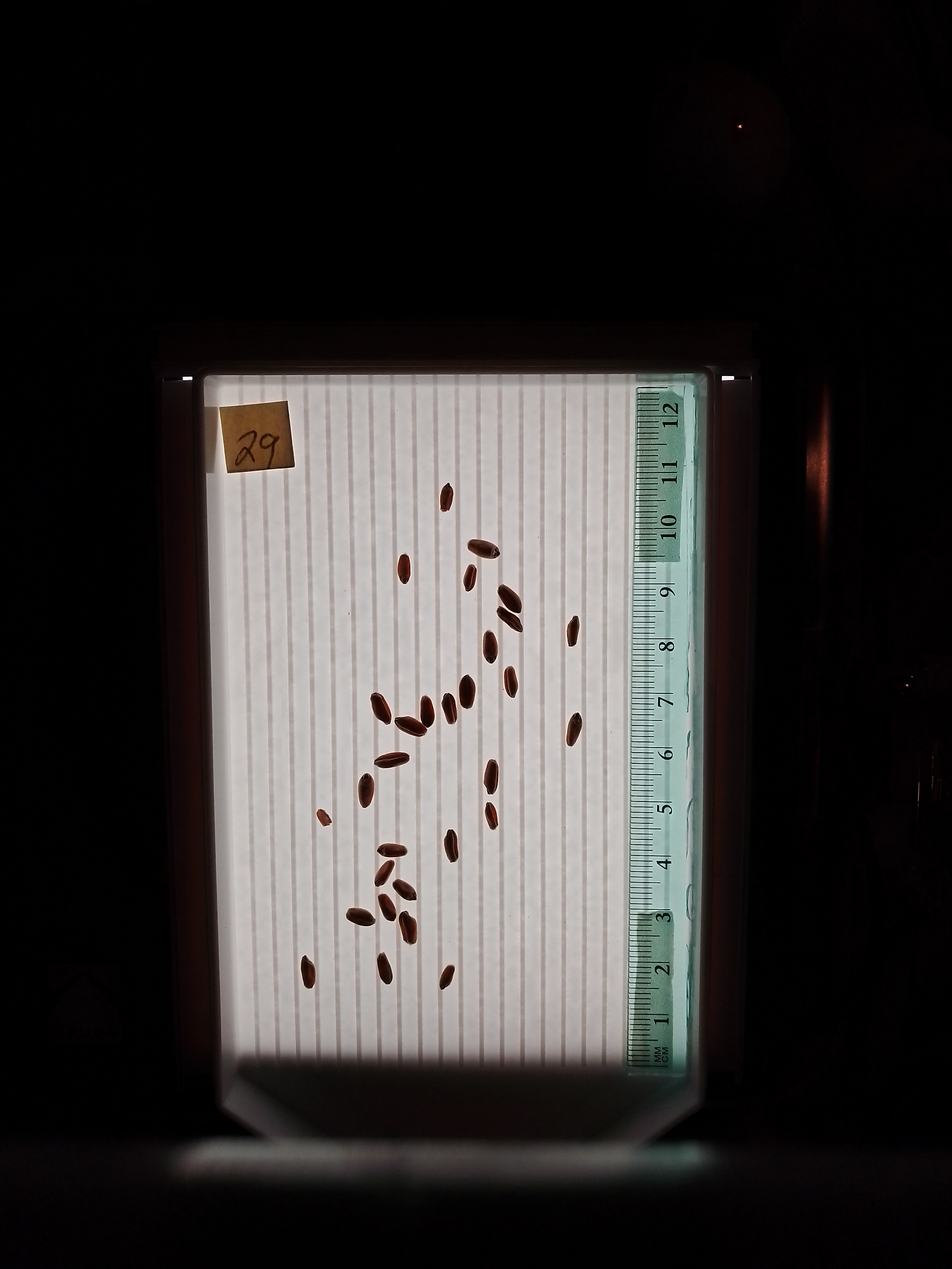seed mask: (468, 538, 500, 559), (499, 585, 521, 615), (395, 716, 425, 737), (372, 693, 392, 724), (375, 752, 409, 769), (499, 608, 523, 632), (399, 913, 417, 944), (459, 675, 475, 709), (358, 774, 374, 807), (566, 714, 582, 746), (393, 879, 416, 901), (484, 760, 499, 793), (347, 909, 374, 927), (444, 830, 459, 862), (377, 954, 393, 984), (483, 632, 498, 663), (420, 696, 435, 727), (379, 894, 396, 921), (375, 862, 394, 886), (442, 694, 457, 724), (301, 957, 315, 989), (566, 616, 580, 646), (378, 843, 406, 858), (505, 667, 518, 697), (398, 555, 411, 584), (440, 484, 453, 512), (463, 565, 476, 591), (485, 803, 498, 829), (439, 966, 453, 989)
